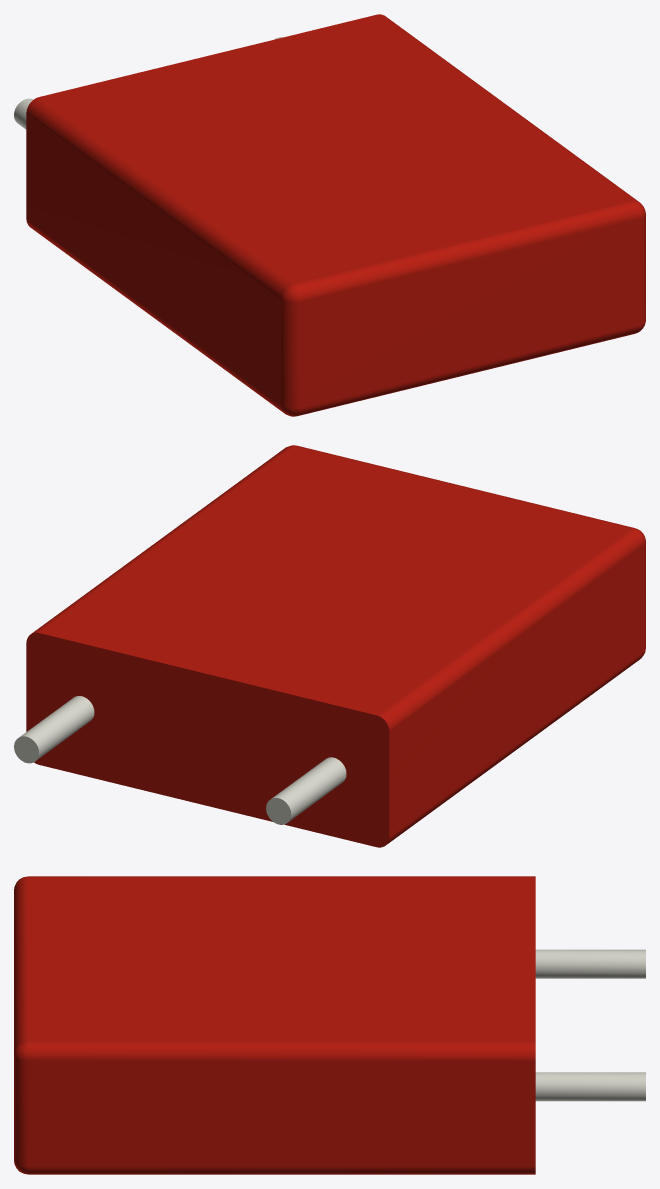
File: c-rect-l7.2-w2.5-p5.00-fks2-fkp2-mks2-mkp2.glb
3 views of the same model, one above another, from view 1: azimuth 30°, elevation 25°; view 2: azimuth 150°, elevation 25°; view 3: azimuth 270°, elevation 25° (orthographic).
Parts seen in each view (by area): view 1: RED-BODY; view 2: RED-BODY, PIN-01; view 3: RED-BODY, PIN-01.
Part boxes in pixels (x1,y1,x2,y2): RED-BODY: [26, 14, 645, 416]; RED-BODY: [26, 445, 645, 847]; PIN-01: [14, 696, 346, 824]; RED-BODY: [14, 876, 535, 1174]; PIN-01: [535, 949, 645, 1101].
Bounding box in the file's own units: 7.2 × 2.5 × 10.9.
